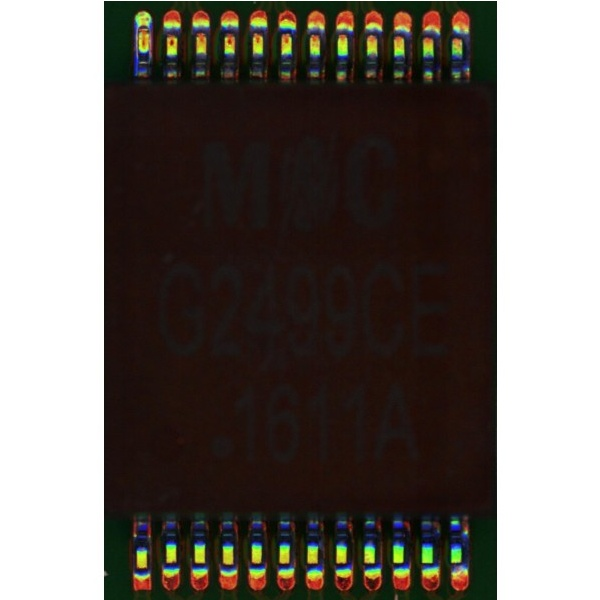Bad_qiaojiao: (134, 26, 138, 60)
